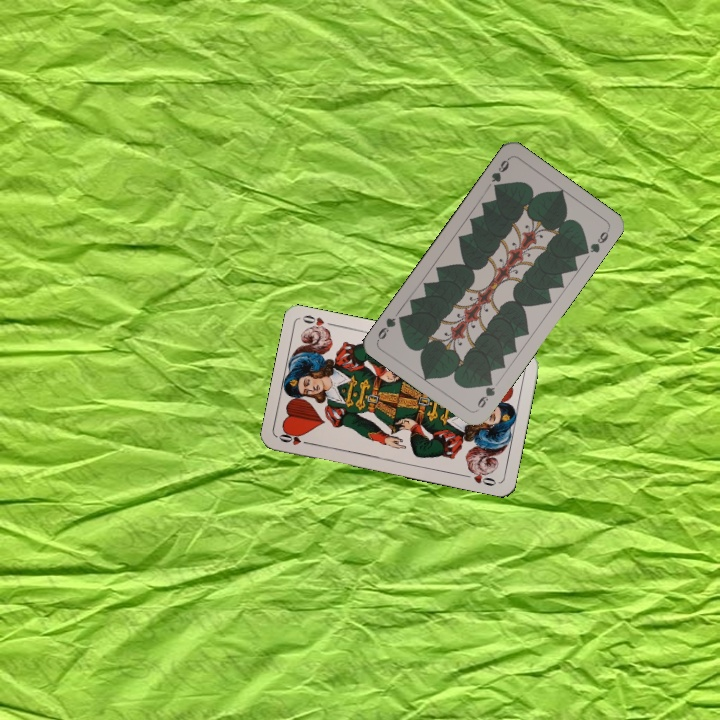G9: (487, 154, 512, 193), (473, 375, 498, 413)
HO: (275, 428, 315, 448)
